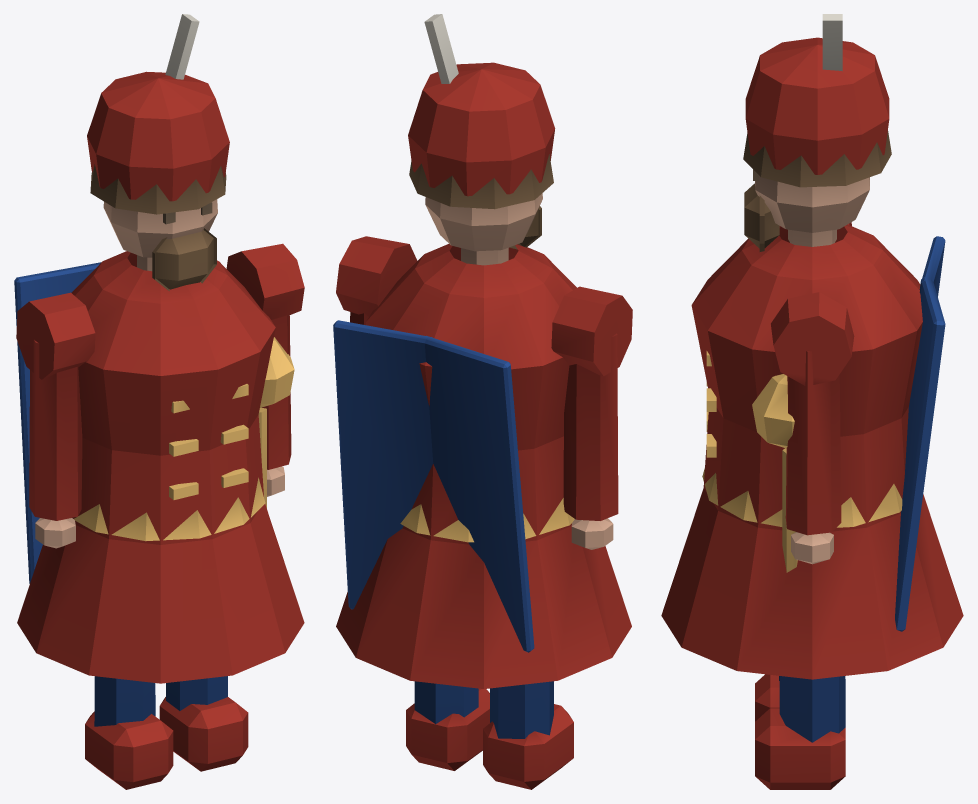
The model's file is unit_voevoda.glb.
The picture shows the model from 3 angles, left to right: view 1: azimuth 30°, elevation 25°; view 2: azimuth 150°, elevation 25°; view 3: azimuth 270°, elevation 25°; orthographic projection. The views are drawn at different scales.
Visible parts, largest first — view 1: unit_voevoda; view 2: unit_voevoda; view 3: unit_voevoda.
Boxes of the visible parts, <box> form: unit_voevoda: <box>14,14,304,789</box>; unit_voevoda: <box>333,14,632,789</box>; unit_voevoda: <box>661,14,963,789</box>.
Size of the model in its own units: 0.3088 by 0.8388 by 0.3.
